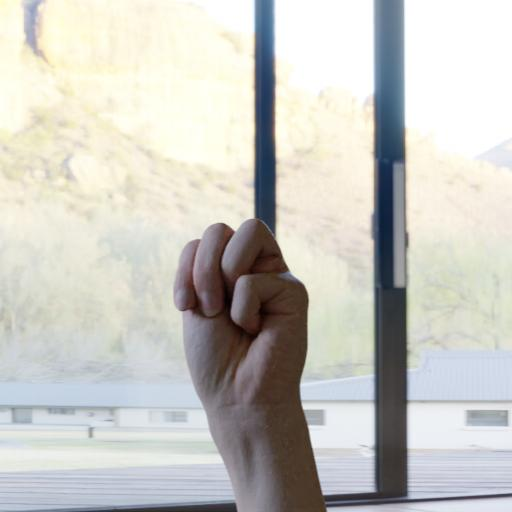M: (166, 210, 331, 512)
